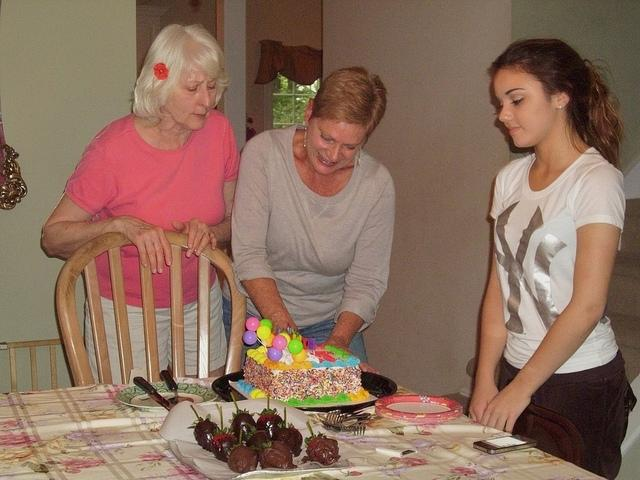strawberry: (210, 403, 238, 461), (187, 404, 220, 452), (272, 407, 302, 457), (228, 391, 256, 444), (254, 442, 298, 470), (305, 432, 341, 466), (226, 444, 258, 474), (245, 424, 271, 448)
